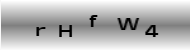4: (144, 24, 159, 39)
H: (57, 24, 74, 38)
W: (116, 16, 140, 31)
f: (88, 14, 99, 28)
r: (35, 25, 46, 38)
